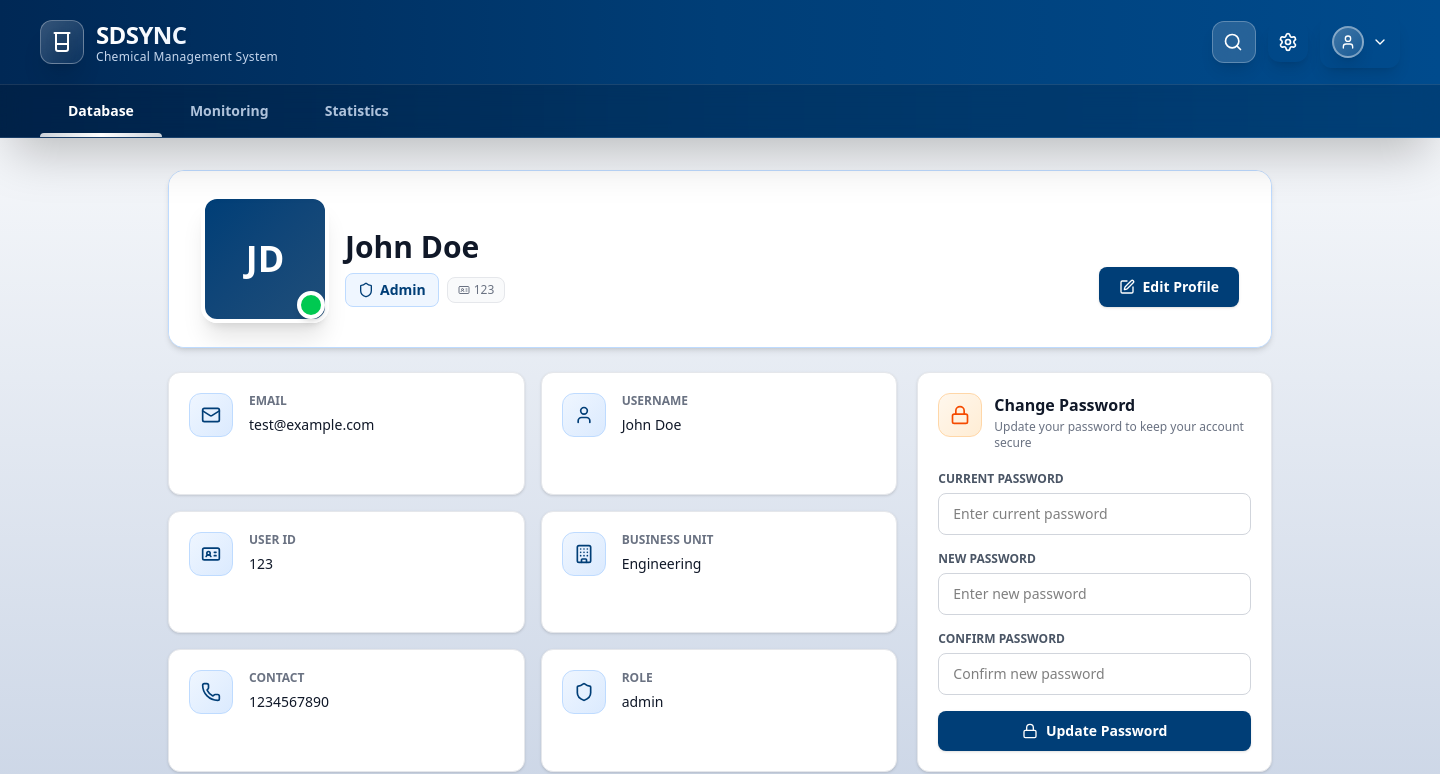
Test: Profile page › shows success message after profile update
This screenshot has width=1440, height=774.
Step 1. Click the button "Edit Profile" → coordinates (1169, 287), box [1098,267,1239,307]
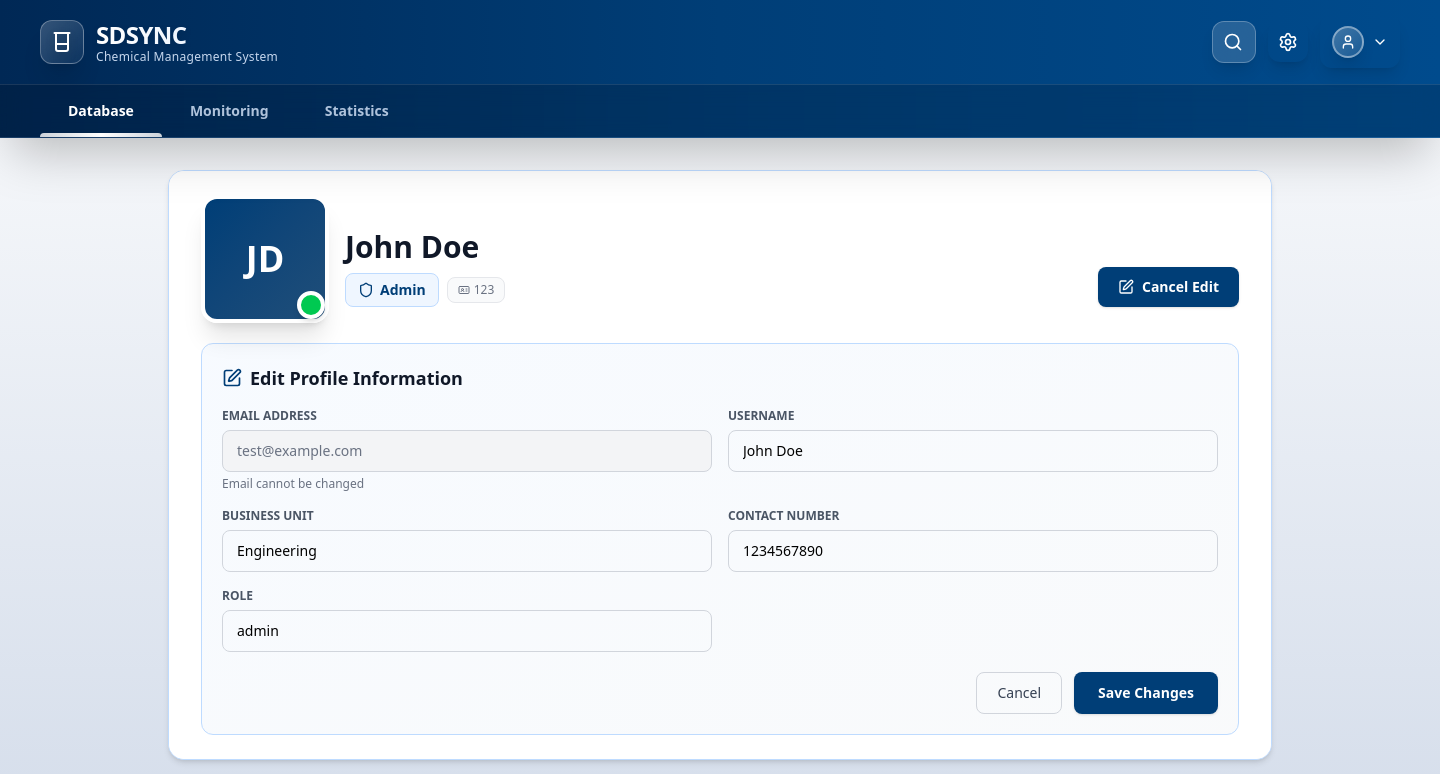
Step 2. Replace the text in the field labelled "Username" with "Jane Smith" → coordinates (973, 451), box [728,430,1218,472]
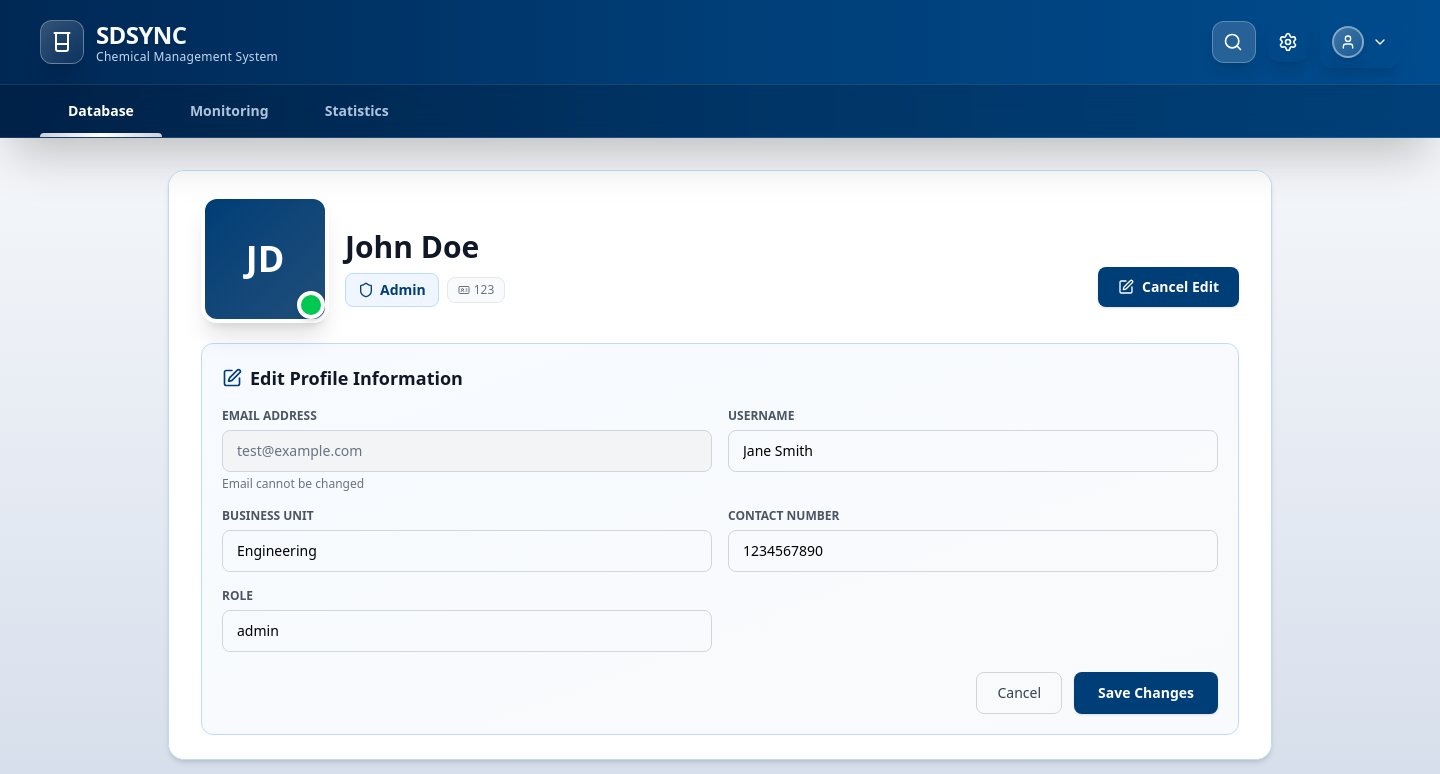
Step 3. Click the button "Save Changes" → coordinates (1146, 693), box [1074,672,1218,714]
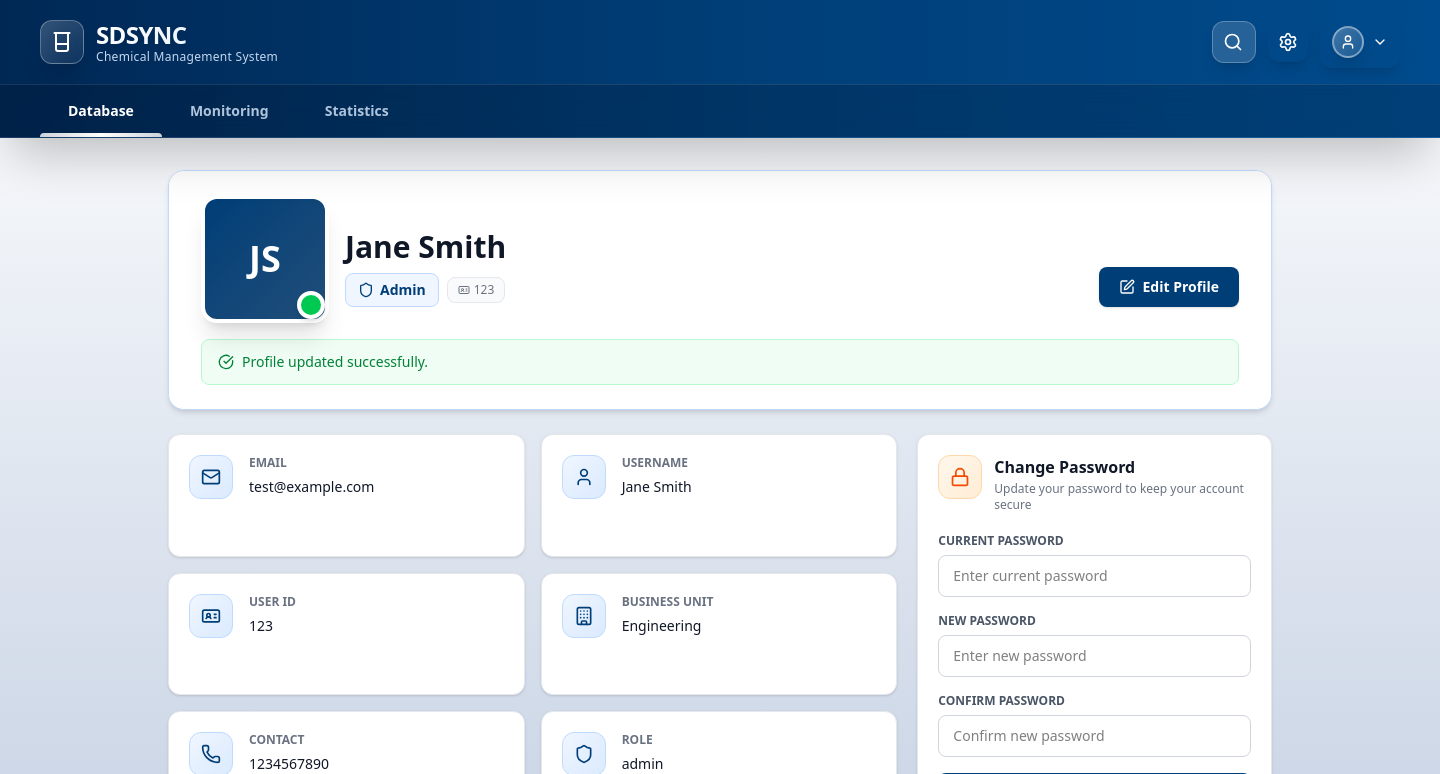
Result: the text "Profile updated successfully." is shown at [242,352,428,372]
